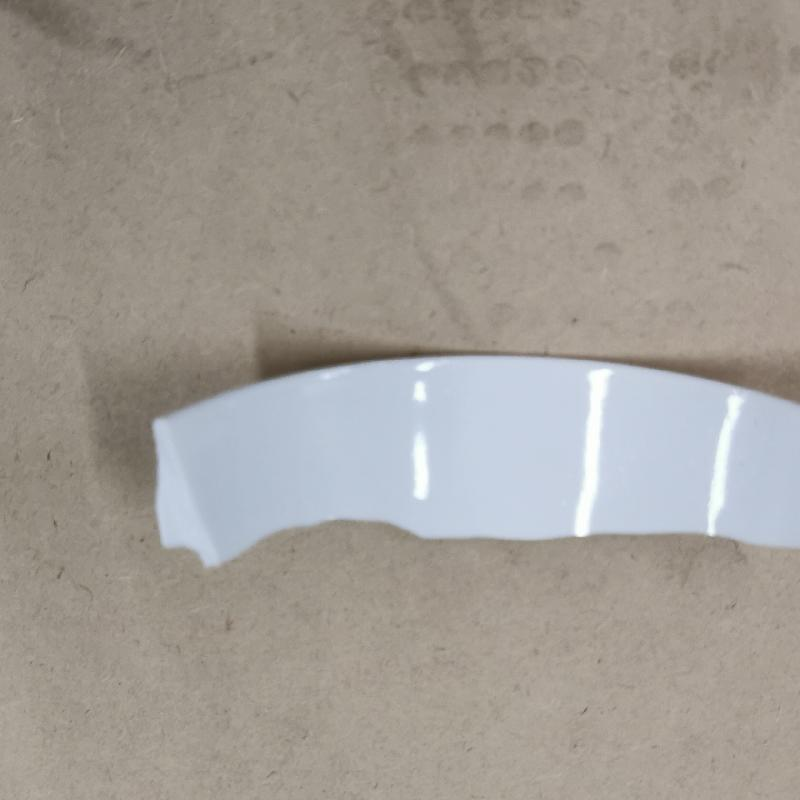ceram: (134, 355, 799, 583)
